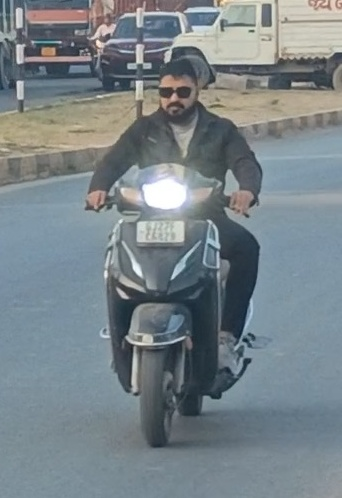BikeWithRider: (76, 51, 277, 452)
NoHelmet: (149, 53, 209, 122)
